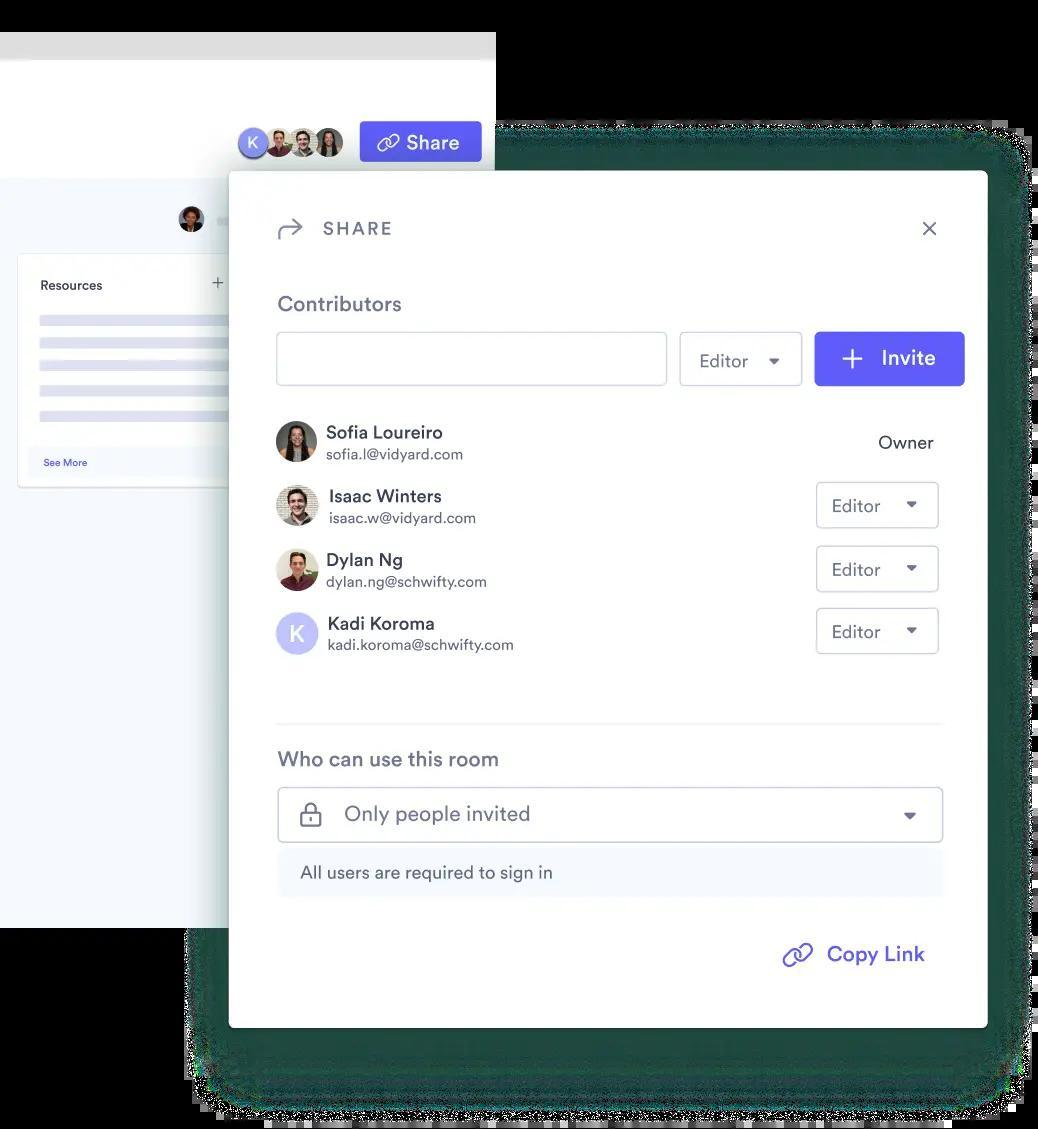button: (768, 927, 948, 986), (812, 329, 968, 390), (358, 120, 487, 165)
dropdown: (277, 782, 947, 846), (677, 329, 807, 384), (815, 541, 943, 595), (819, 481, 940, 535), (816, 607, 940, 657)
input: (274, 330, 671, 390)
label: (324, 614, 517, 655), (327, 548, 489, 590), (320, 425, 470, 466), (324, 491, 479, 528), (275, 296, 405, 316)
